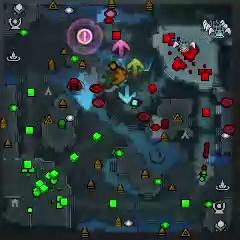Other: (77, 27, 92, 46)
x1: (111, 40, 131, 58)
x2: (127, 58, 144, 76)
x3: (118, 85, 137, 104)
x4: (102, 70, 115, 89)
x5: (113, 66, 126, 86)
